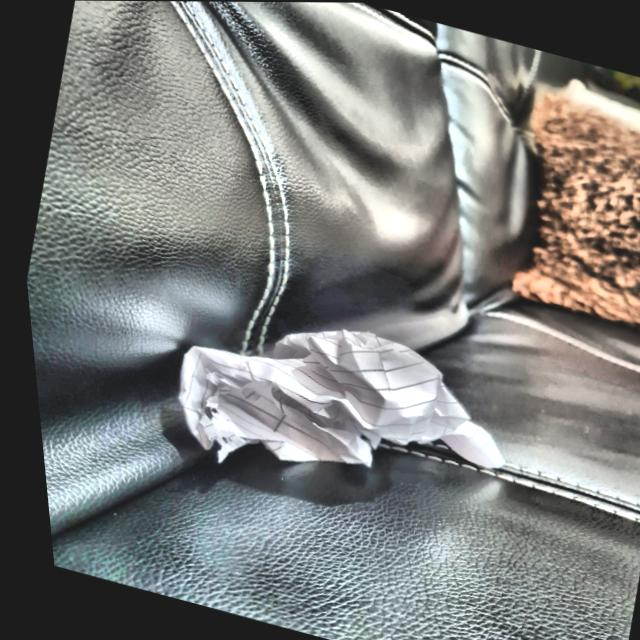Paper: (145, 281, 537, 525)
